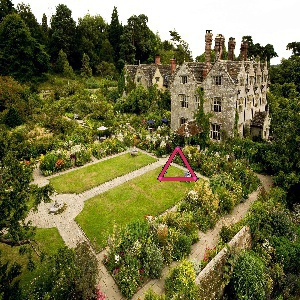triangle: (157, 143, 198, 184)
